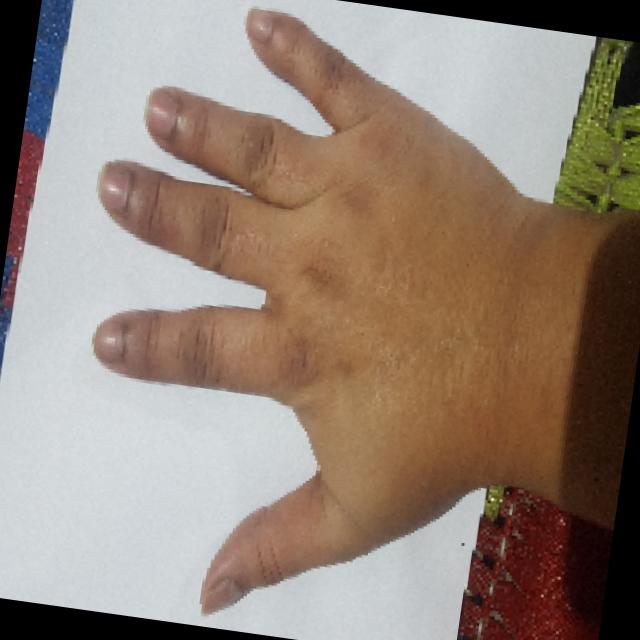Nail: (98, 161, 133, 211), (145, 89, 179, 138), (202, 577, 246, 614), (94, 318, 125, 365), (246, 8, 274, 42)
